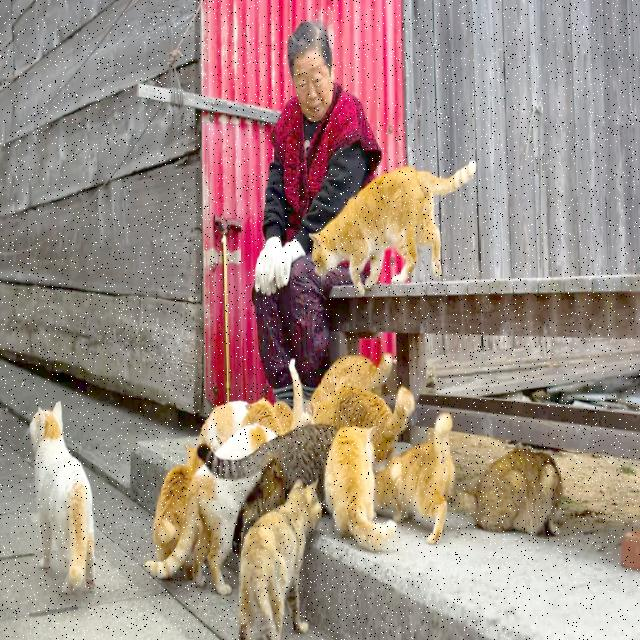cat: (311, 161, 476, 295), (199, 424, 338, 549), (145, 466, 261, 595), (239, 481, 321, 640), (30, 402, 95, 593), (374, 413, 455, 543), (454, 448, 562, 535), (326, 427, 396, 551), (308, 387, 415, 462), (154, 446, 202, 560), (198, 398, 294, 449), (312, 353, 392, 403), (218, 426, 274, 459), (289, 359, 314, 428)
